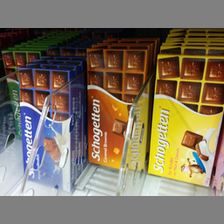chocolate: (147, 56, 224, 187), (83, 47, 146, 171), (17, 68, 74, 189)
